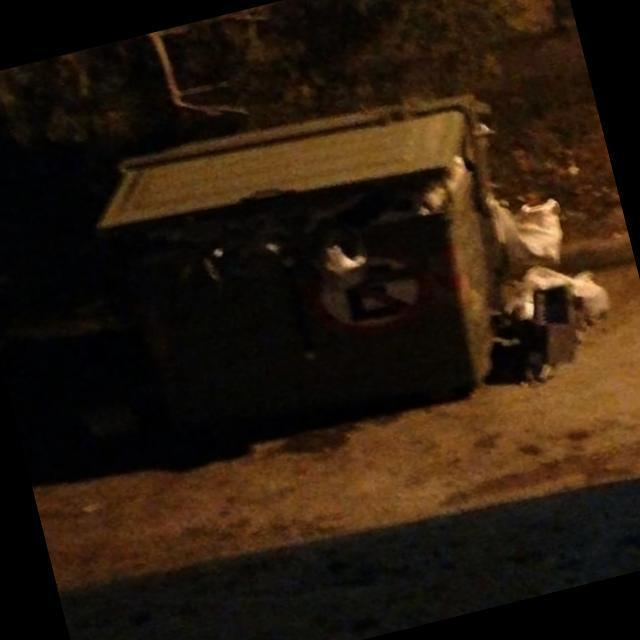garbage: (68, 142, 500, 336), (456, 139, 640, 420), (50, 363, 176, 486)
